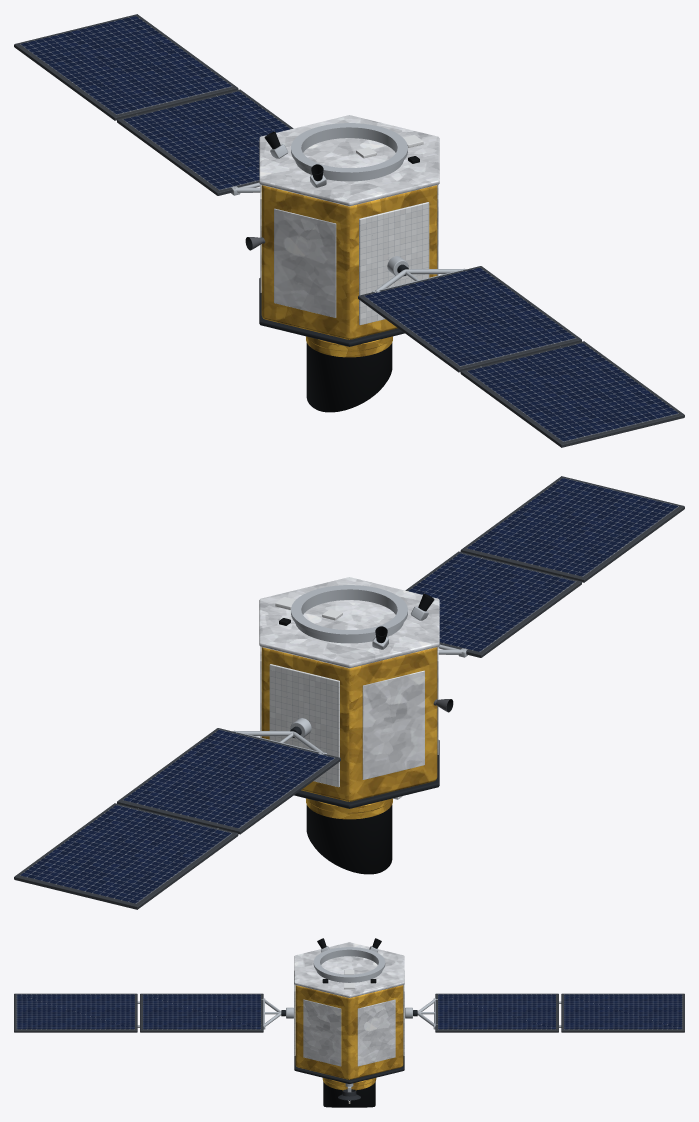
The model's file is smallsat.glb.
3 views of the same model, one above another, from view 1: azimuth 30°, elevation 25°; view 2: azimuth 150°, elevation 25°; view 3: azimuth 270°, elevation 25° (orthographic). The views are drawn at different scales.
Parts seen in each view (by area): view 1: smallsat_body, solar_2, solar_1; view 2: smallsat_body, solar_1, solar_2; view 3: smallsat_body, solar_1, solar_2.
Boxes of the visible parts, x1,y1,x2,y2 form: smallsat_body: [245, 115, 439, 412]; solar_2: [358, 256, 684, 447]; solar_1: [14, 14, 293, 195]; smallsat_body: [259, 577, 453, 874]; solar_1: [14, 718, 340, 909]; solar_2: [405, 476, 684, 657]; smallsat_body: [294, 938, 404, 1107]; solar_1: [405, 993, 684, 1032]; solar_2: [14, 993, 293, 1032].
Size of the model in its own units: 1.69 by 2.24 by 8.41.
14 materials, 4 textured.
